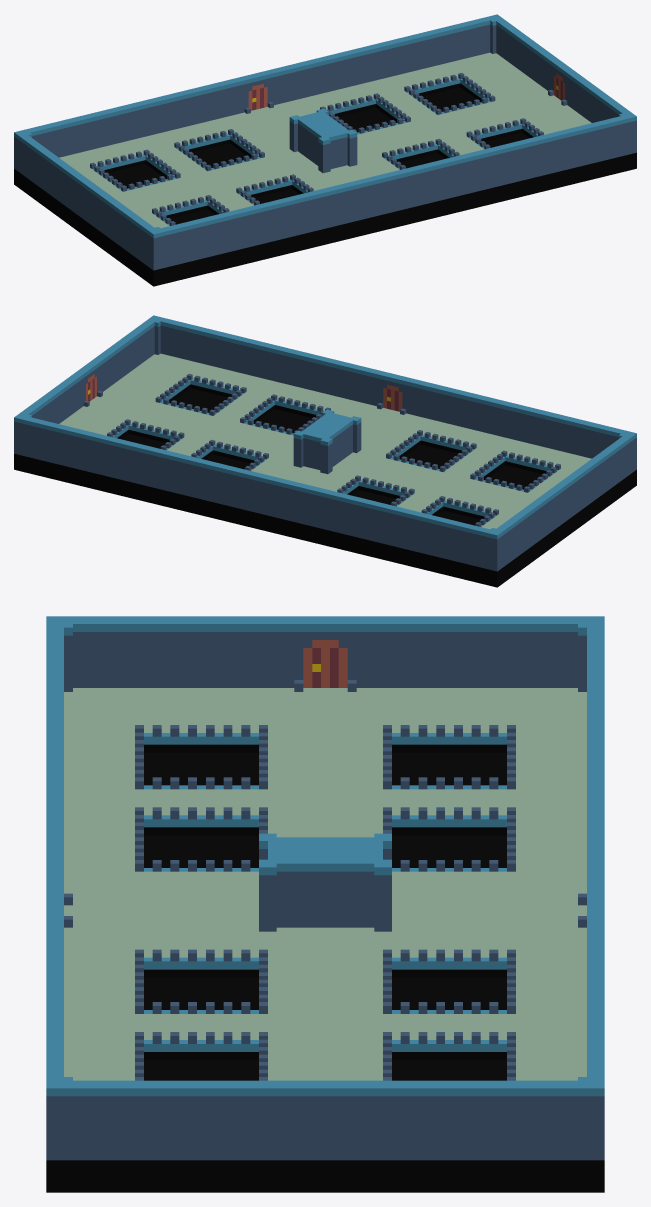
Rendered from hab1.1.obj.
The picture shows the model from 3 angles, top to bottom: view 1: azimuth 30°, elevation 25°; view 2: azimuth 150°, elevation 25°; view 3: azimuth 270°, elevation 25°; orthographic projection. The views are drawn at different scales.
Bounding box in the file's own units: 126 × 13 × 63.
1 material, 1 textured.
